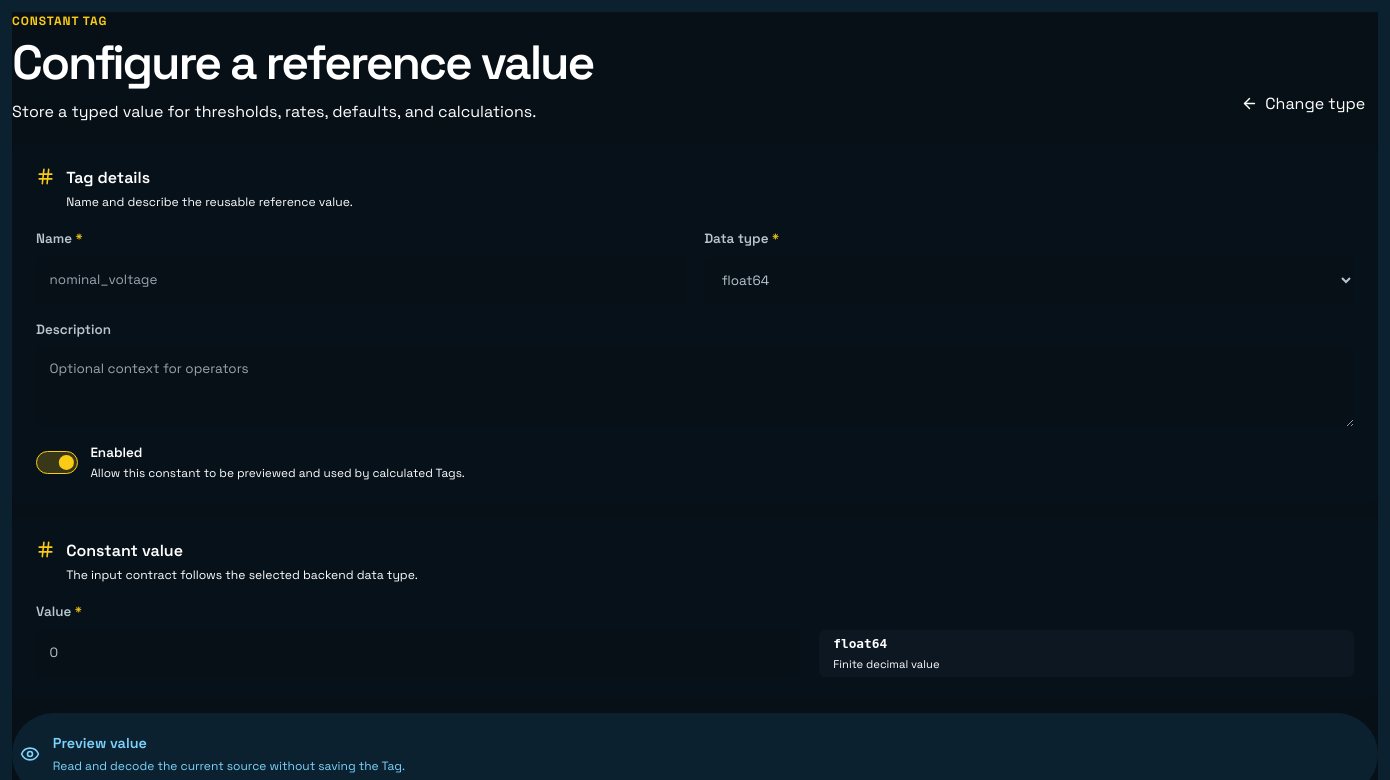
Test: ConstantTagForm › switches between backend-aligned numeric ranges and boolean values
The width and height of the screenshot is (1390, 780).
Select "int16" in the dropdown labelled "Data type *" at (1029, 280), box [704,257,1354,304]
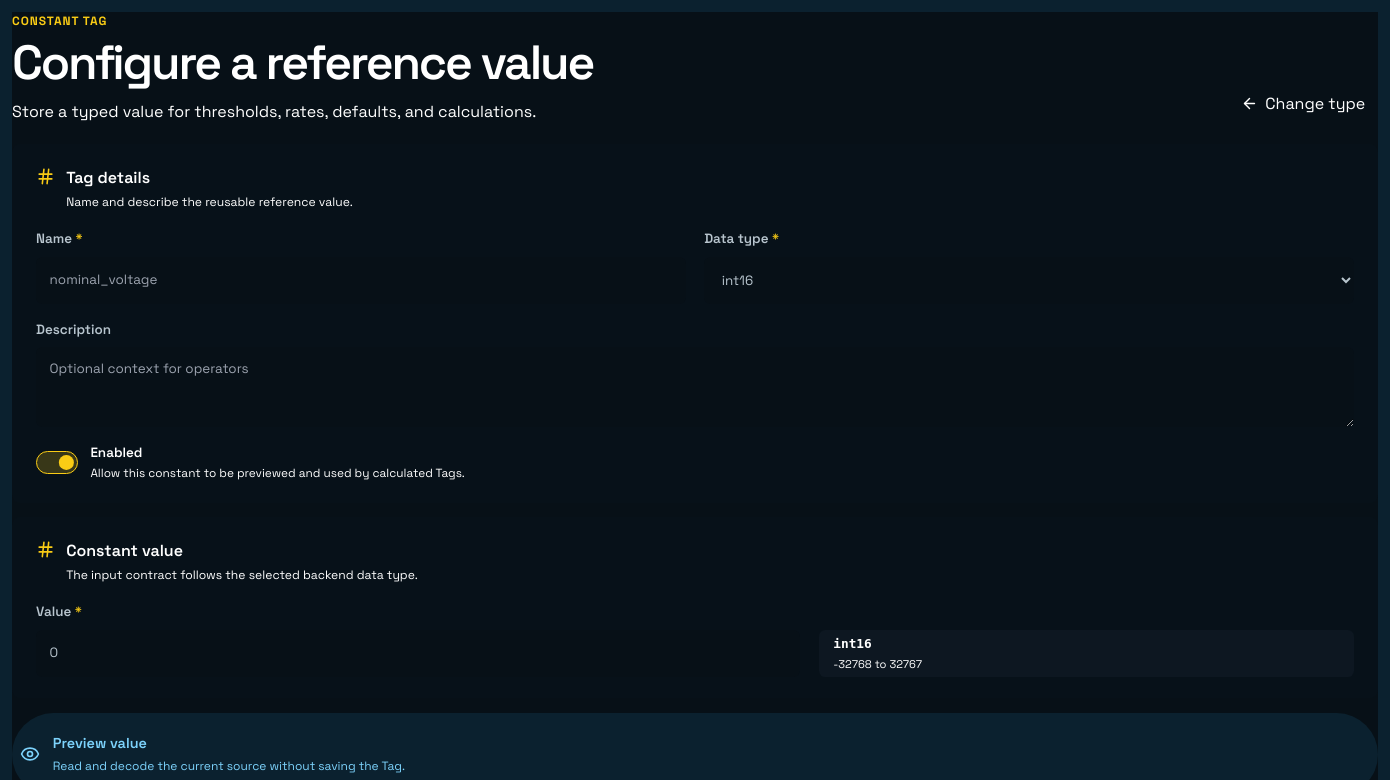
Select "float32" in the dropdown labelled "Data type *" at (1029, 280), box [704,257,1354,304]
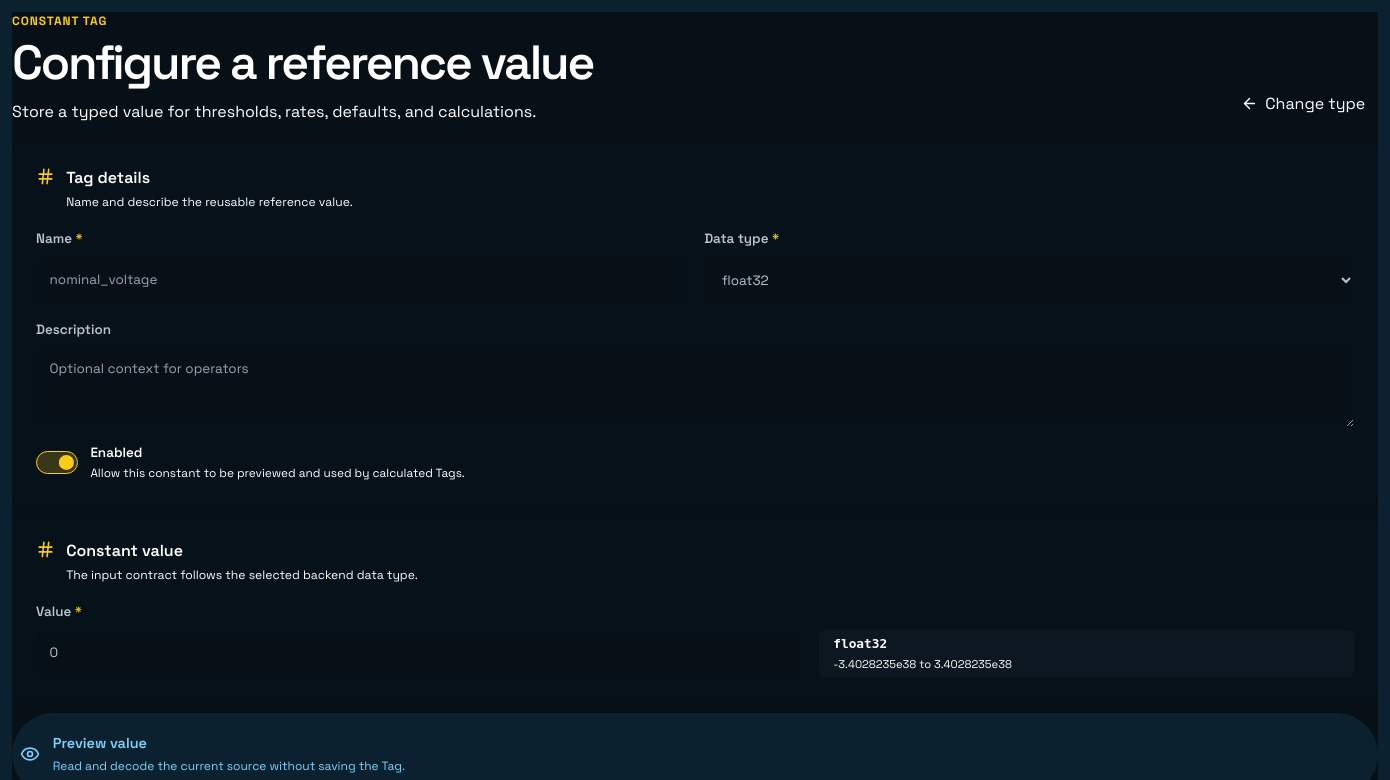
Select "bool" in the dropdown labelled "Data type *" at (1029, 280), box [704,257,1354,304]
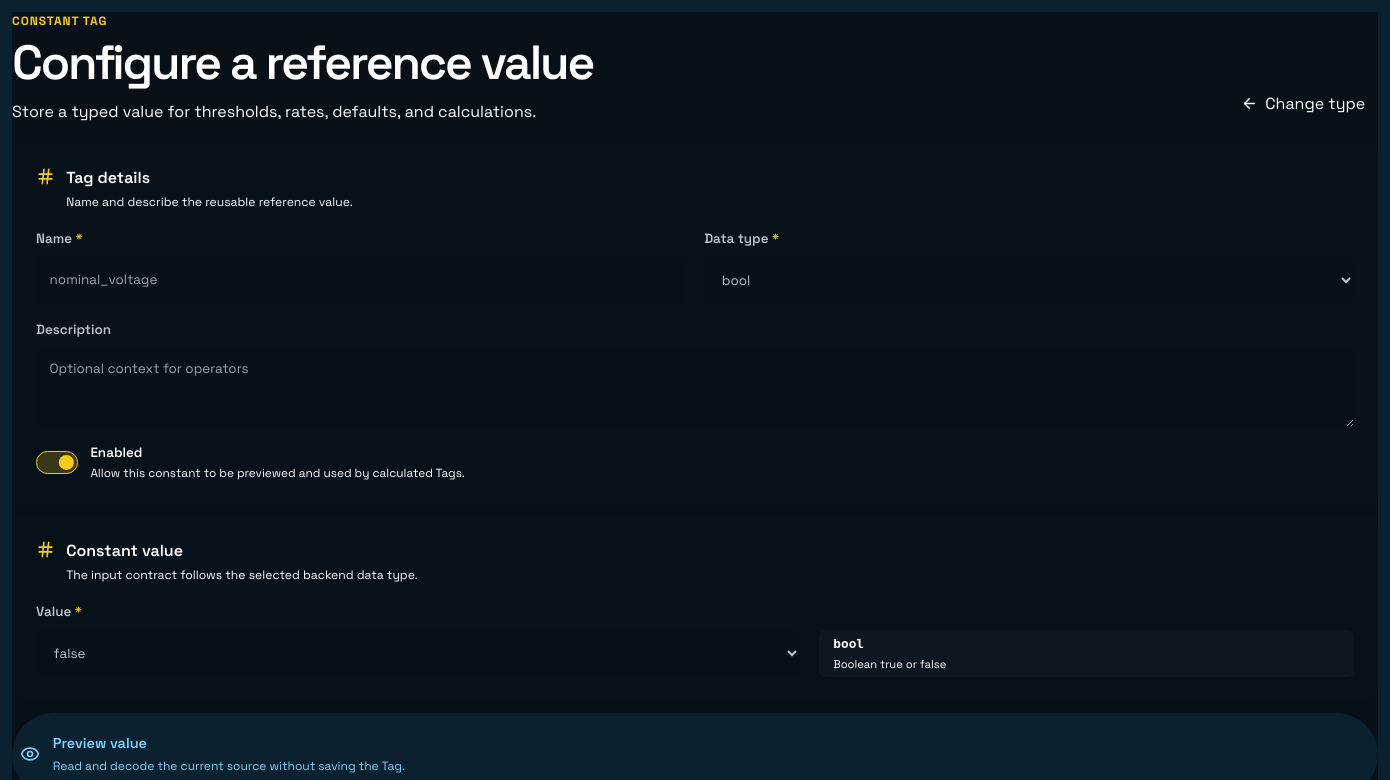
Expected: the dropdown labelled "Value *" shows "false", [36,630,800,677]
Expected: the text "Boolean true or false" is shown, [833,657,946,671]
